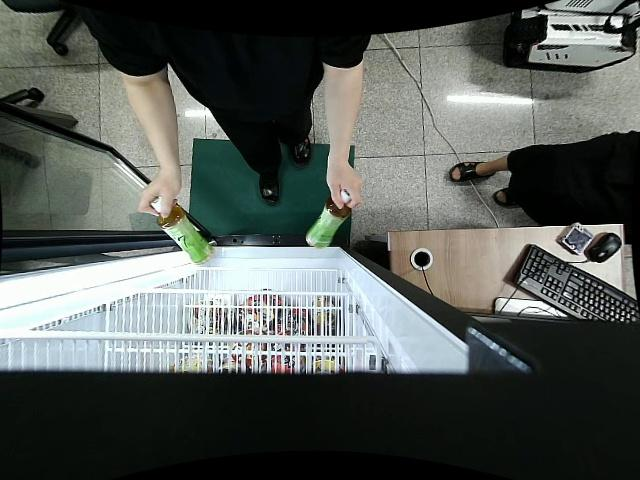00_hand: (137, 173, 183, 220), (325, 161, 363, 211)
19_17cha: (151, 195, 213, 265), (306, 186, 351, 248)
